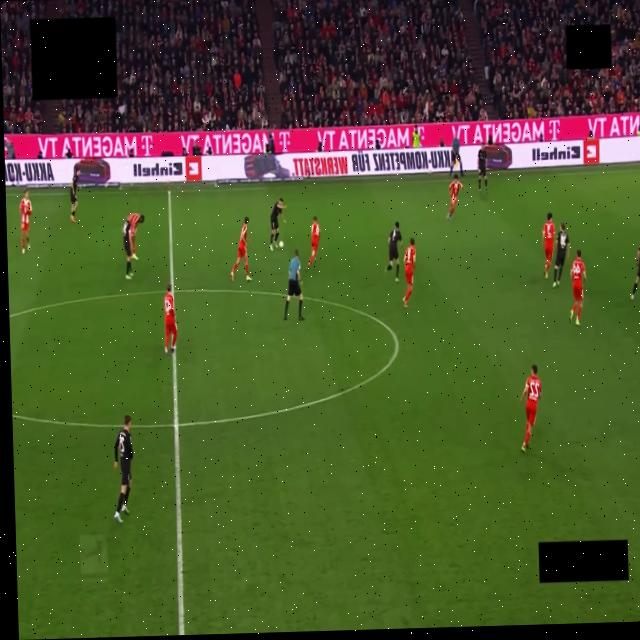ball: (278, 241, 283, 248)
player: (113, 415, 133, 523), (520, 365, 540, 452), (230, 217, 250, 281), (569, 250, 585, 326), (552, 224, 569, 287), (384, 221, 401, 283), (163, 283, 176, 354), (402, 238, 415, 307), (541, 213, 554, 279), (269, 199, 285, 250), (446, 175, 463, 219), (128, 213, 144, 259), (19, 190, 30, 254), (306, 216, 319, 270), (122, 220, 132, 280), (630, 245, 639, 300), (477, 144, 487, 193), (70, 170, 79, 222)
referee: (284, 249, 303, 320)
